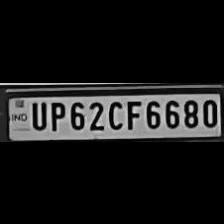0: (200, 95, 218, 127)
2: (87, 97, 105, 130)
6: (67, 98, 85, 130), (142, 96, 160, 128), (162, 96, 180, 128)
8: (181, 96, 199, 128)
C: (106, 97, 122, 129)
F: (123, 96, 141, 130)
P: (47, 98, 65, 130)
U: (28, 98, 48, 130)
